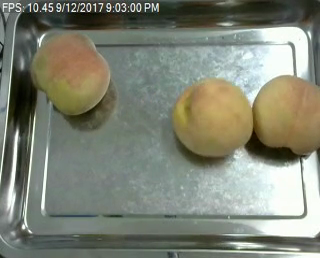Peach: (30, 32, 110, 115), (172, 77, 253, 155), (251, 75, 320, 156)
